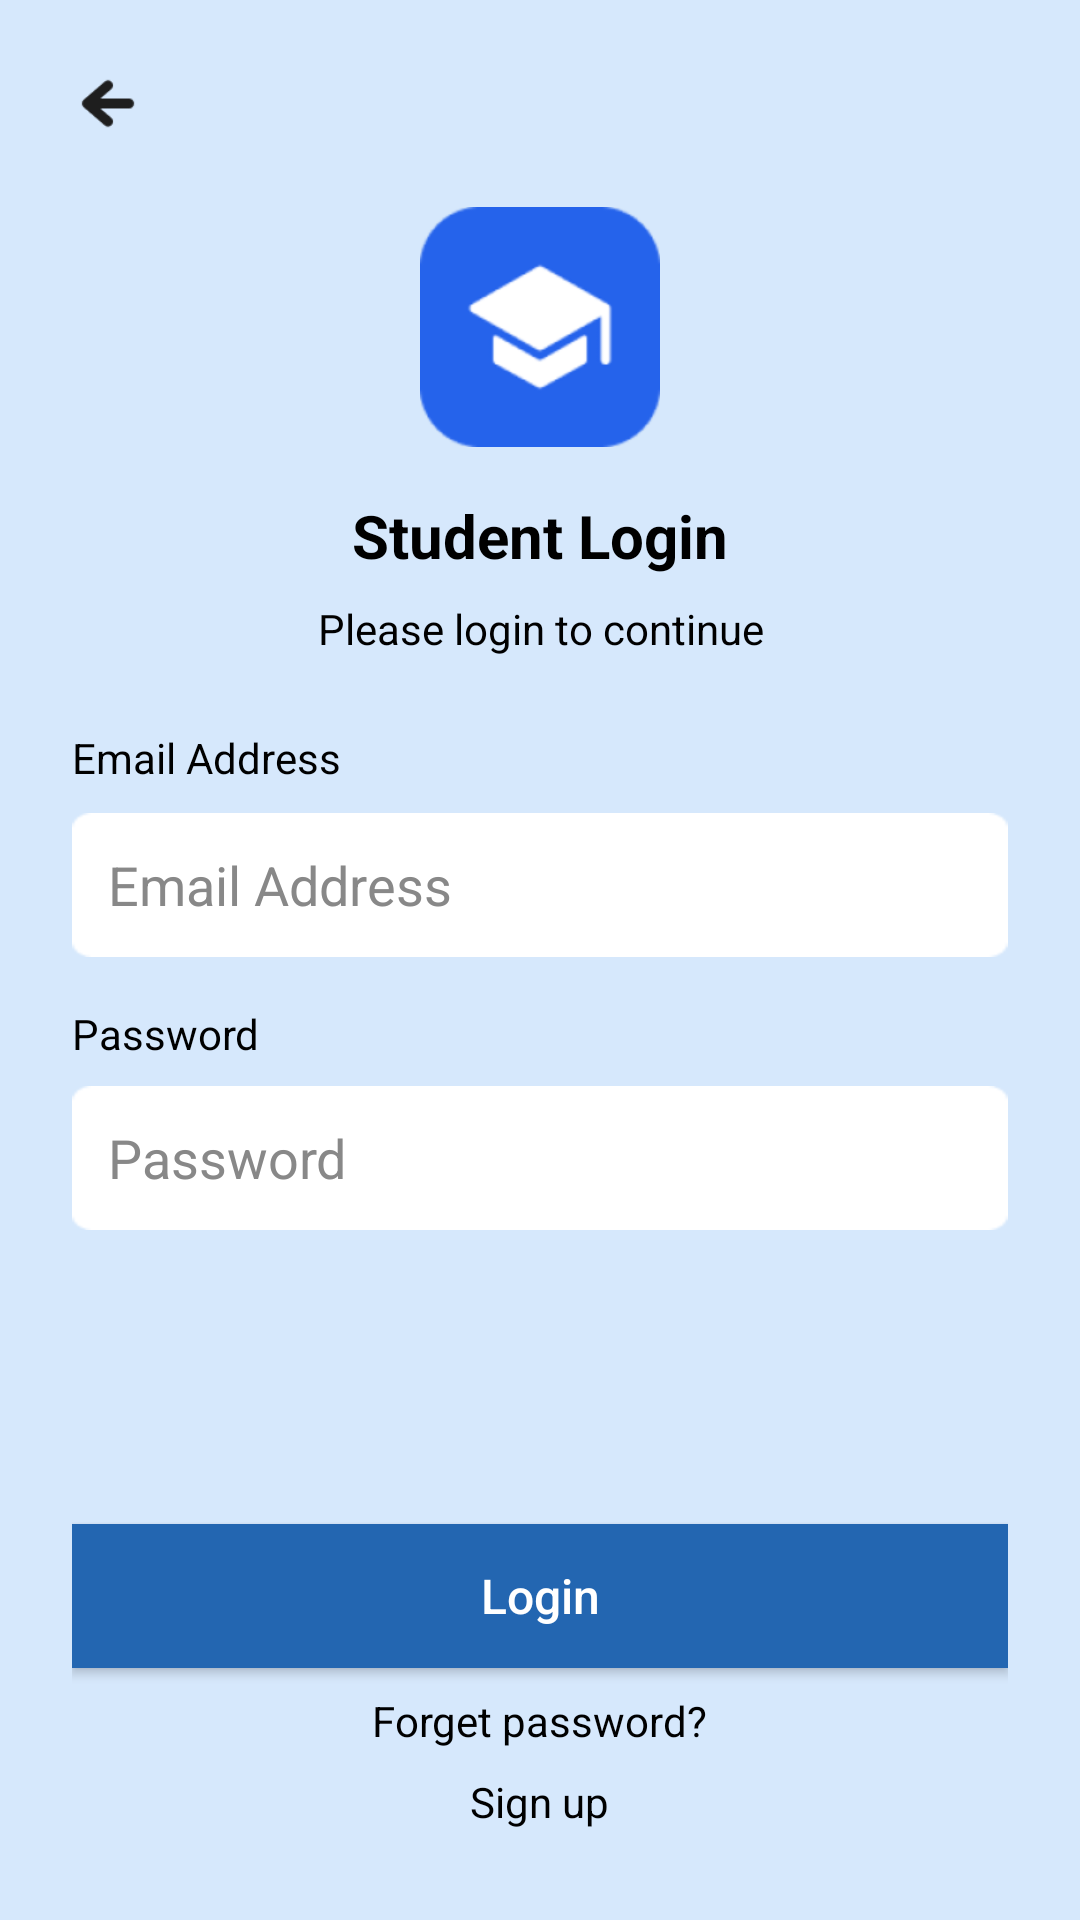

Icon bounding boxes for this 1080px x 1920px phone screenshot, format {"left": x1, "top": y1, "right": x2, "bottom": y2}:
Back: {"left": 81, "top": 80, "right": 135, "bottom": 127}
